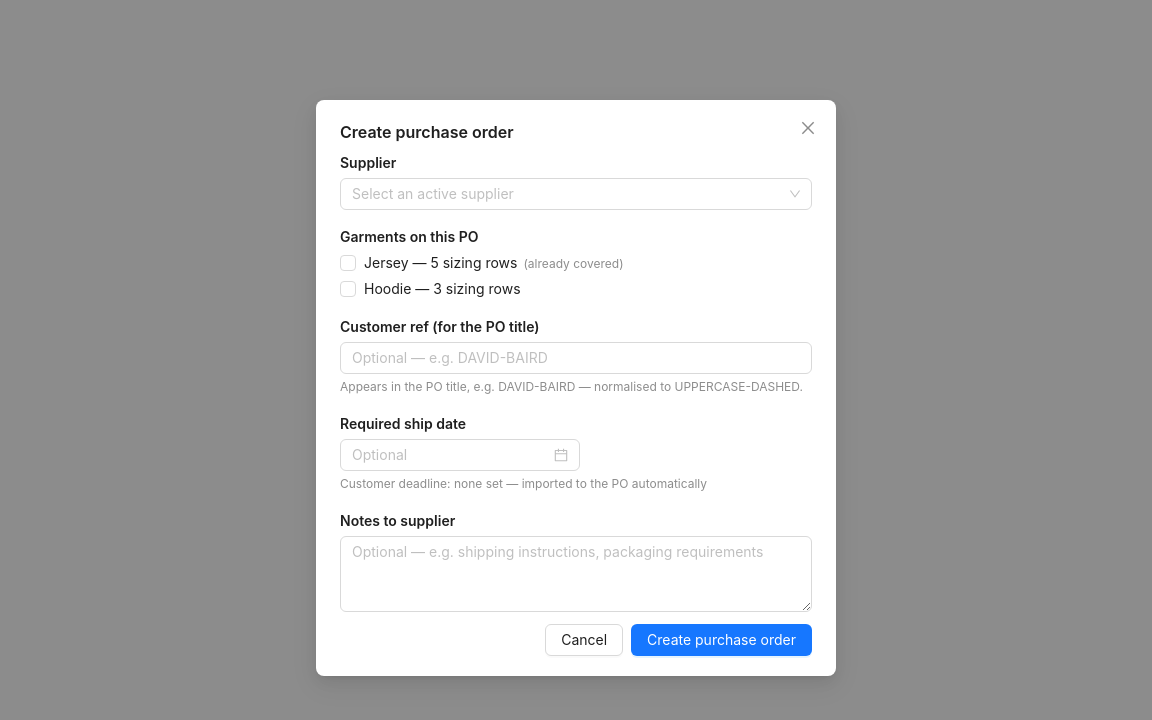
Test: CreatePoModal › requires a supplier and at least one garment before POSTing
Expected: the text "Jersey — 5 sizing rows" is shown, [356,252,632,274]
Click the button "Create purchase order" at (722, 640), box [631,624,812,656]
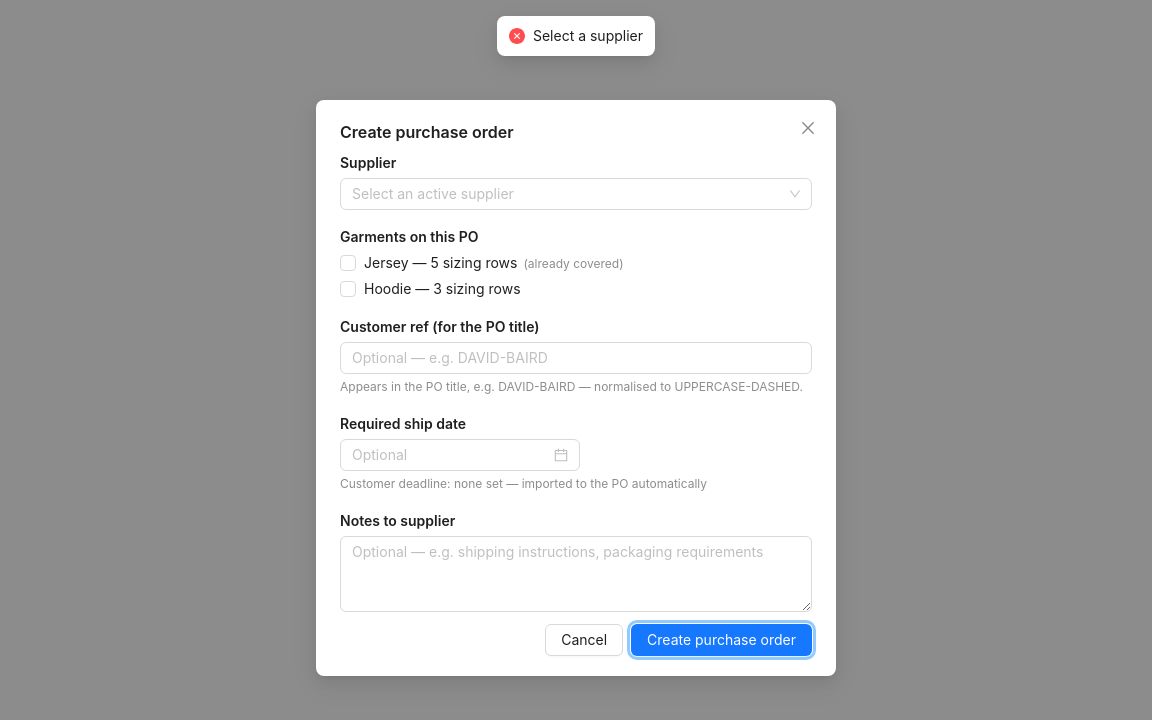
Expected: the text "Select a supplier" is shown, [533,25,643,47]
Click the dropdown at (567, 194), box [352,179,782,209]
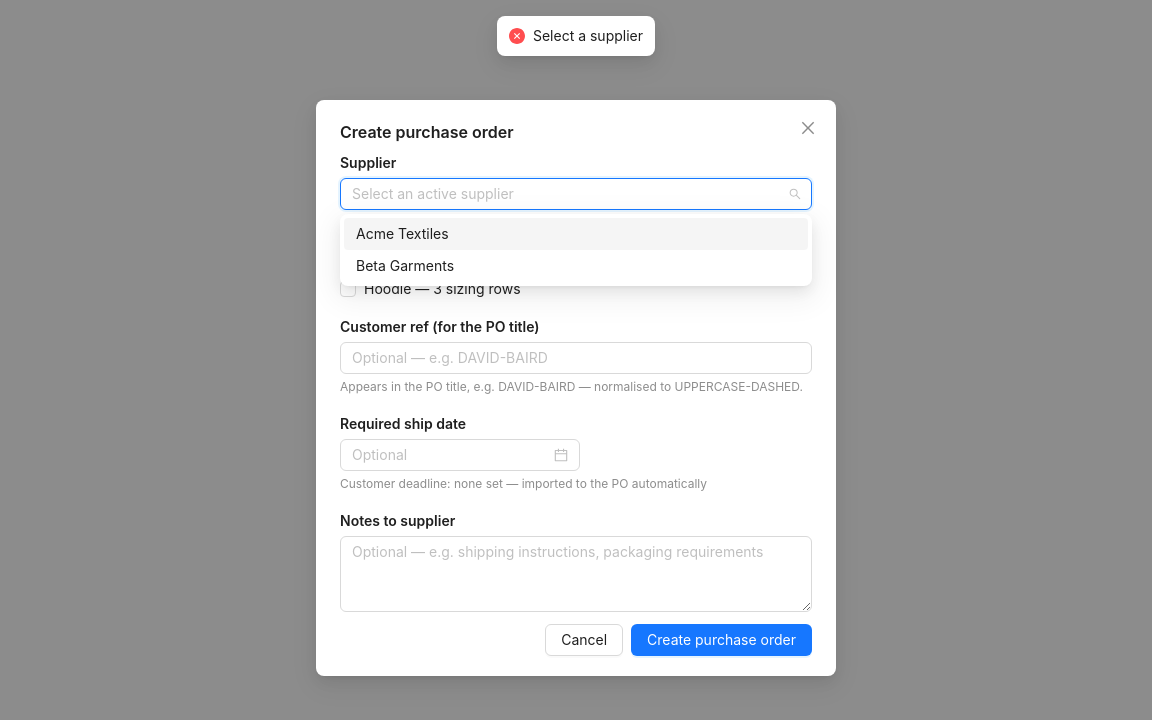
Click the text "Acme Textiles" at (402, 234), box [356,225,449,242]
(page scrolled)
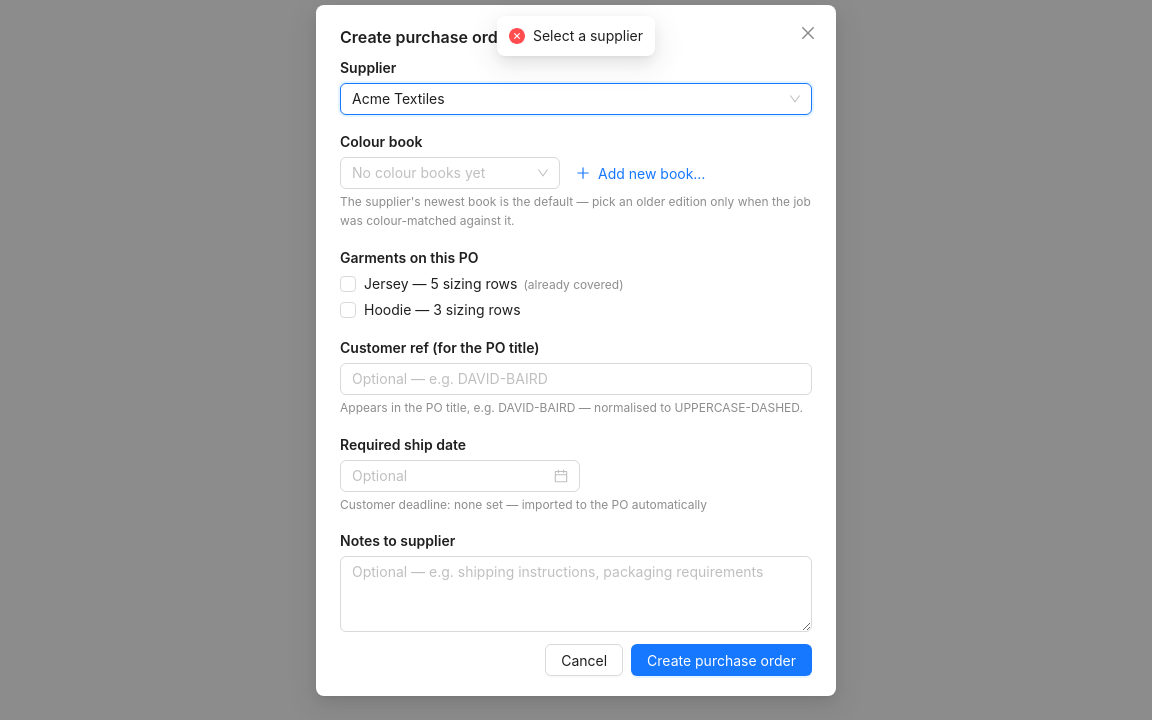
Click the button "Create purchase order" at (722, 660), box [631,644,812,676]
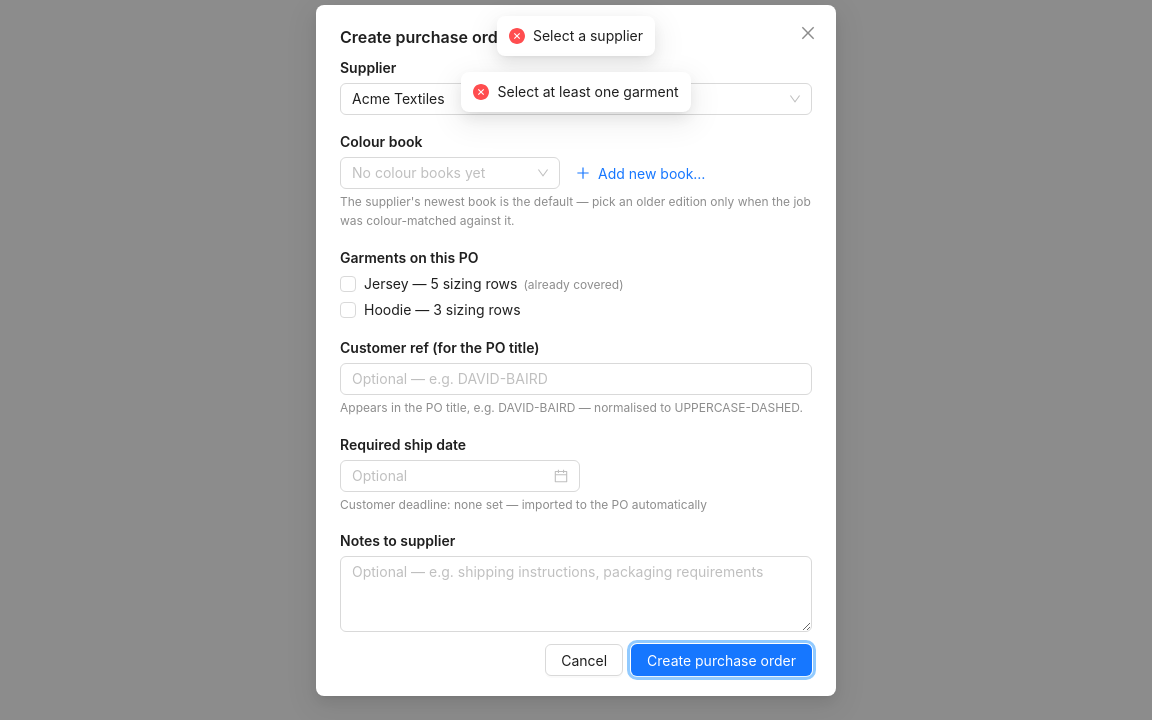
Expected: the text "Select at least one garment" is shown, [498,81,678,103]
